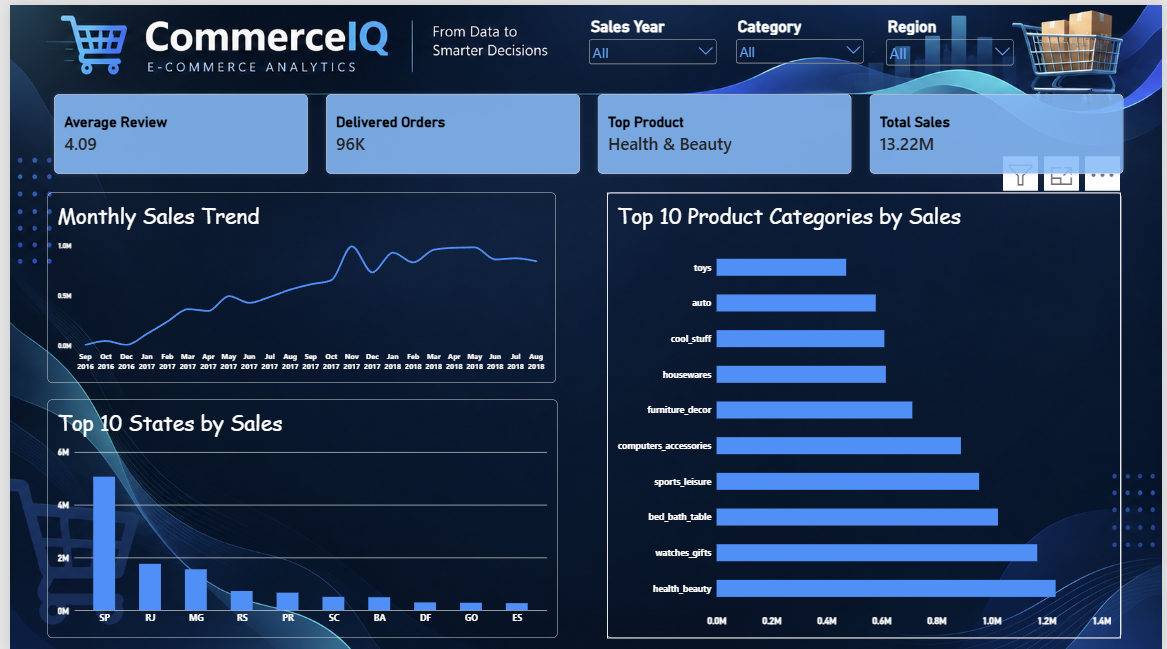

The page's visual inventory and layout, read from the dashboard file:
{"tool":"powerbi","page":{"name":"sales overview","canvas":[1920,1080],"ordinal":0},"visuals":[{"type":"lineChart","title":"Monthly Sales Trend","fields":{"Y":["Sum(monthly_sales.item_sales)"],"Category":["monthly_sales.MonthLabel"]},"box":[62.5,312.5,847.5,317.5],"z":0},{"type":"clusteredBarChart","title":"Top 10 Product Categories by Sales","fields":{"Y":["Sum(category_sales.total_sales)"],"Category":["category_sales.product_category"]},"box":[995,312.5,857.5,742.5],"z":1},{"type":"clusteredColumnChart","title":"Top 10 States by Sales","fields":{"Y":["Sum(state_sales.total_item_sales)"],"Category":["state_sales.customer_state"]},"box":[62.5,657.5,850,397.5],"z":2},{"type":"cardVisual","fields":{"Data":["monthly_sales.Average Review Score","monthly_sales.Delivered Orders","monthly_sales.Top Product Category","monthly_sales.Total Item Sales"]},"box":[62.5,137.5,1807.5,155],"z":3},{"type":"slicer","fields":{"Values":["monthly_sales.sales_year"]},"box":[960,20,222.6,118.1],"z":7},{"type":"slicer","fields":{"Values":["category_sales.product_category"]},"box":[1205,20,222.6,118.1],"z":8},{"type":"slicer","fields":{"Values":["state_sales.customer_state"]},"box":[1455,20,222.6,118.1],"z":9}]}

Visuals, with their boxes in screenshot pixels (x1, y1, x2, y2), scaled from the page's 1920x1080 canvas onto the 1167x649 screenshot:
"Monthly Sales Trend" lineChart: <box>38,188,553,379</box>
"Top 10 Product Categories by Sales" clusteredBarChart: <box>605,188,1126,634</box>
"Top 10 States by Sales" clusteredColumnChart: <box>38,395,555,634</box>
cardVisual - monthly_sales.Average Review Score x monthly_sales.Delivered Orders: <box>38,83,1137,176</box>
slicer - monthly_sales.sales_year: <box>584,12,719,83</box>
slicer - category_sales.product_category: <box>732,12,868,83</box>
slicer - state_sales.customer_state: <box>884,12,1020,83</box>
